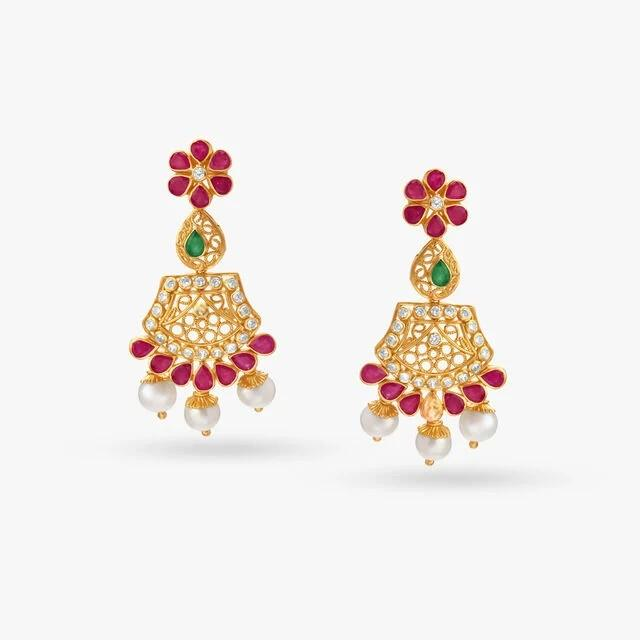missing gem: (423, 393, 442, 421), (196, 305, 207, 317)
